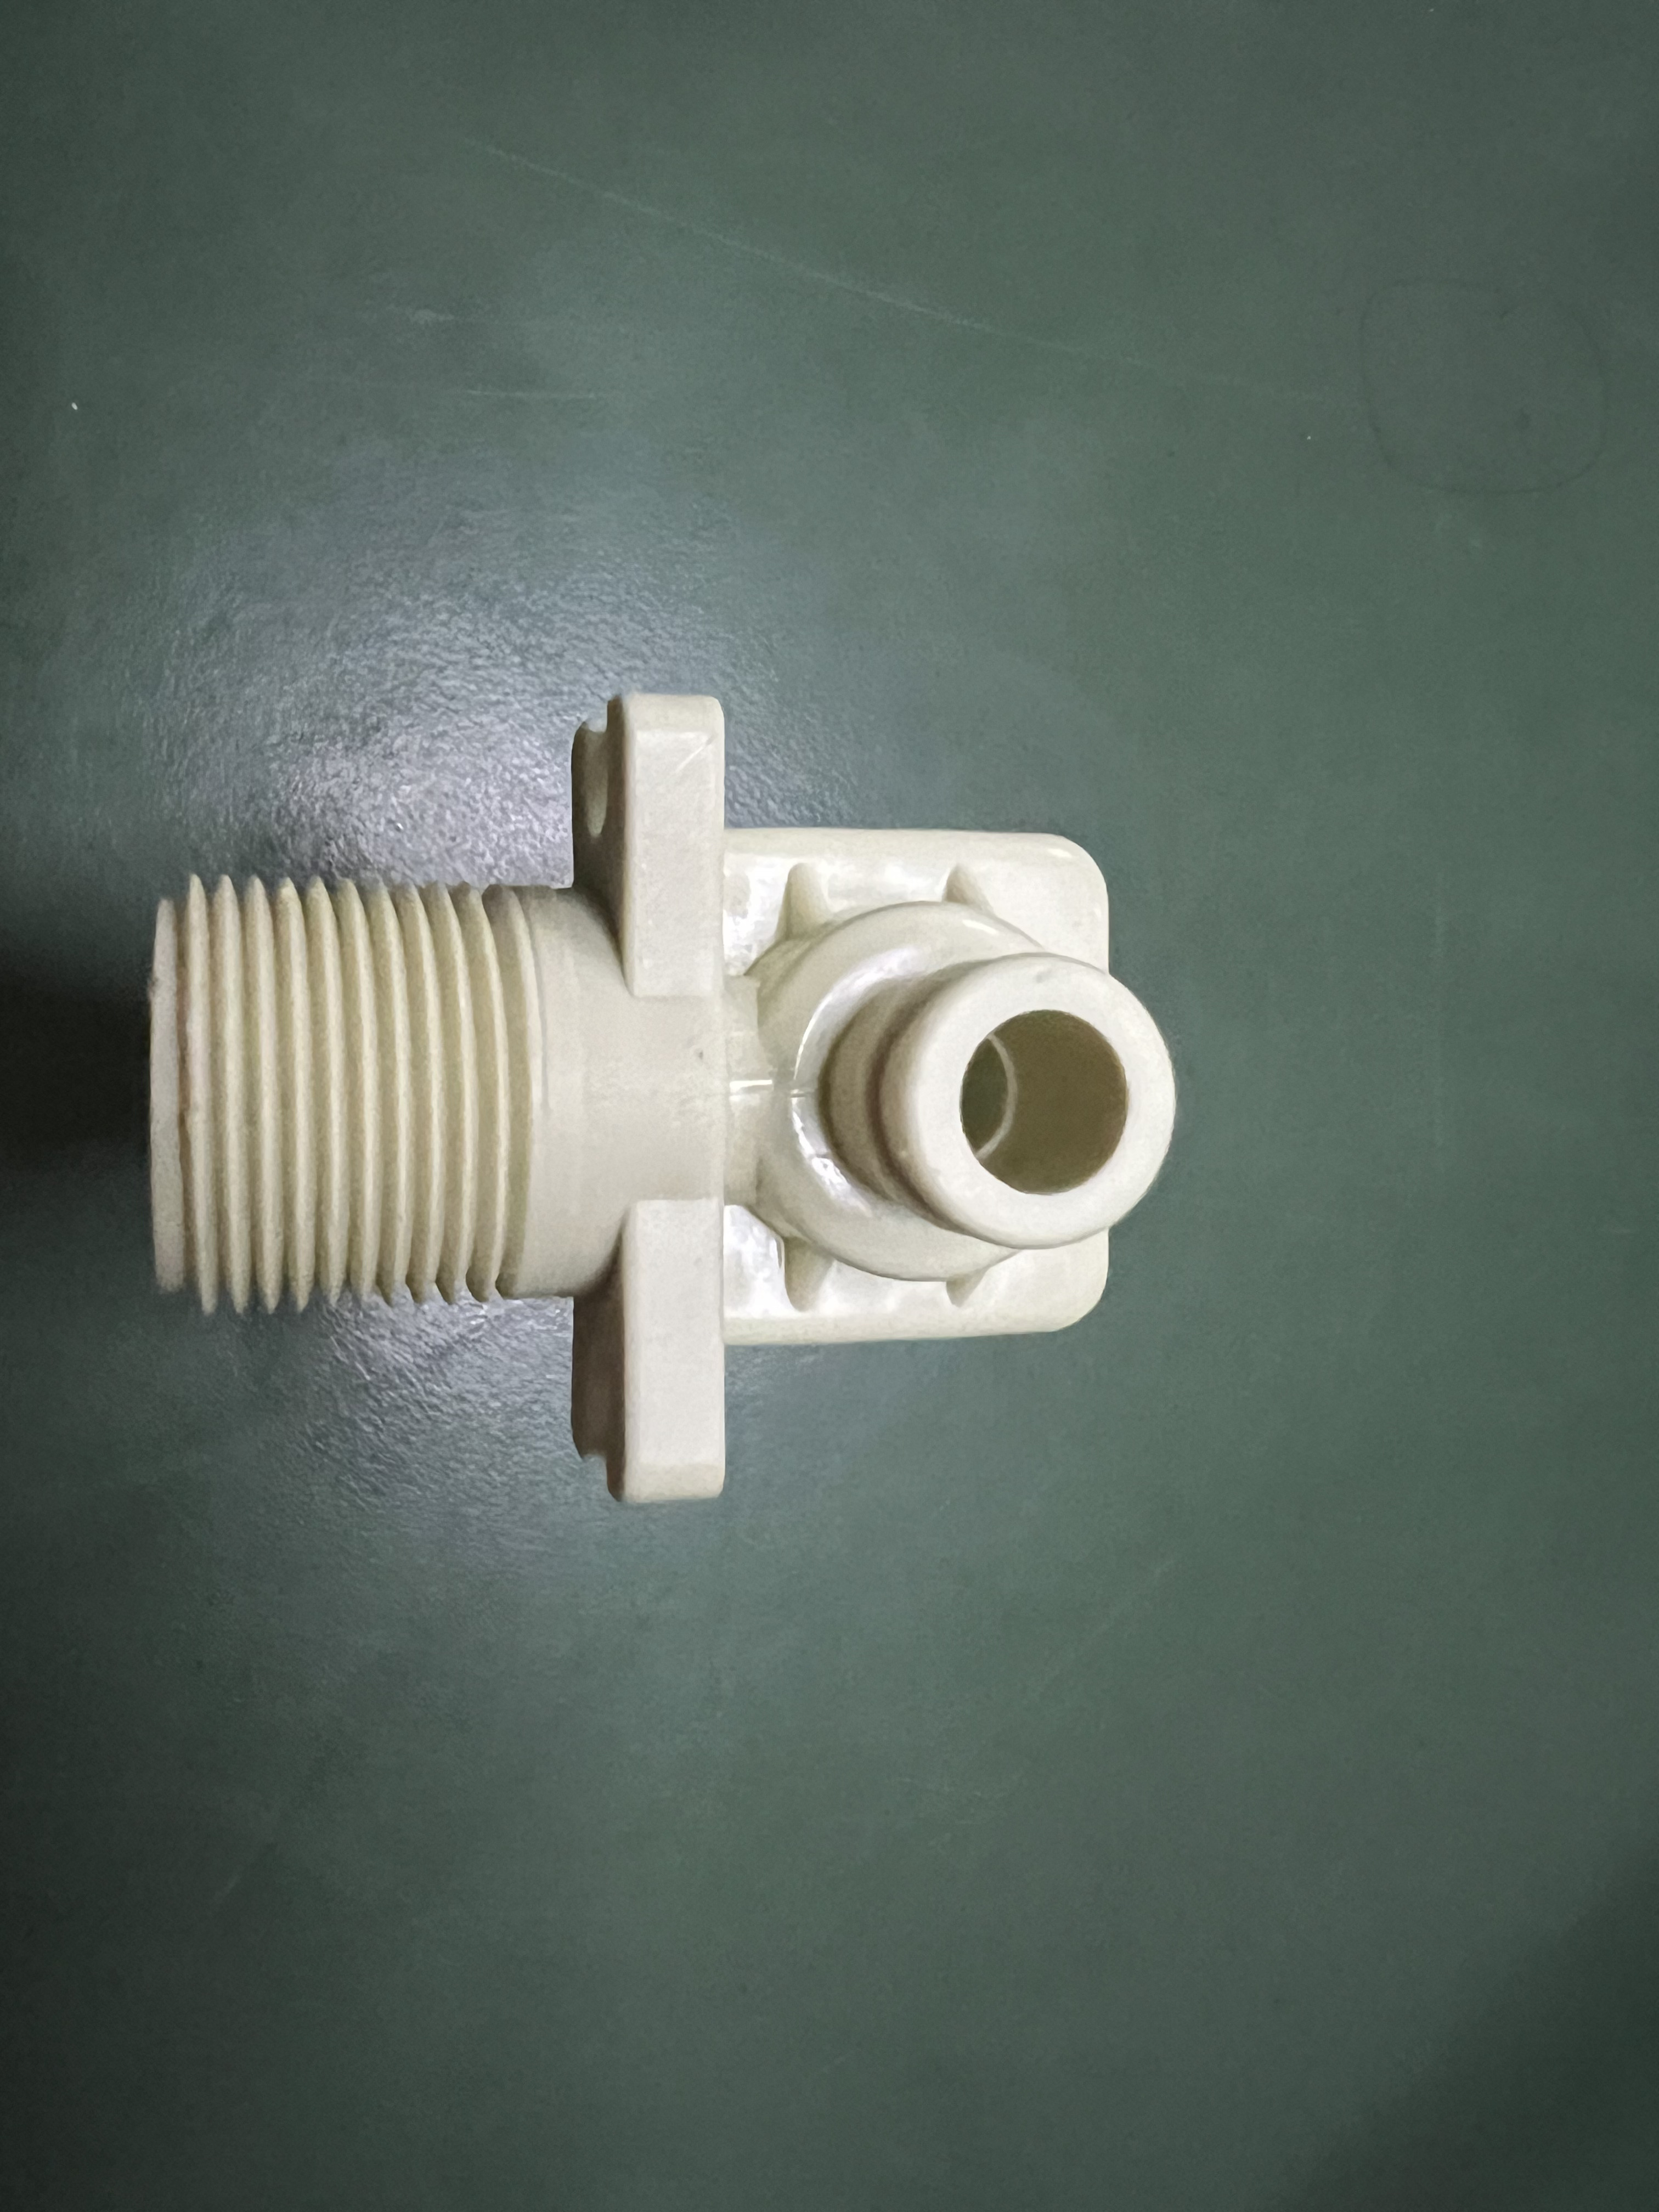godrej_inlet_valves: (71, 648, 1241, 1566)
